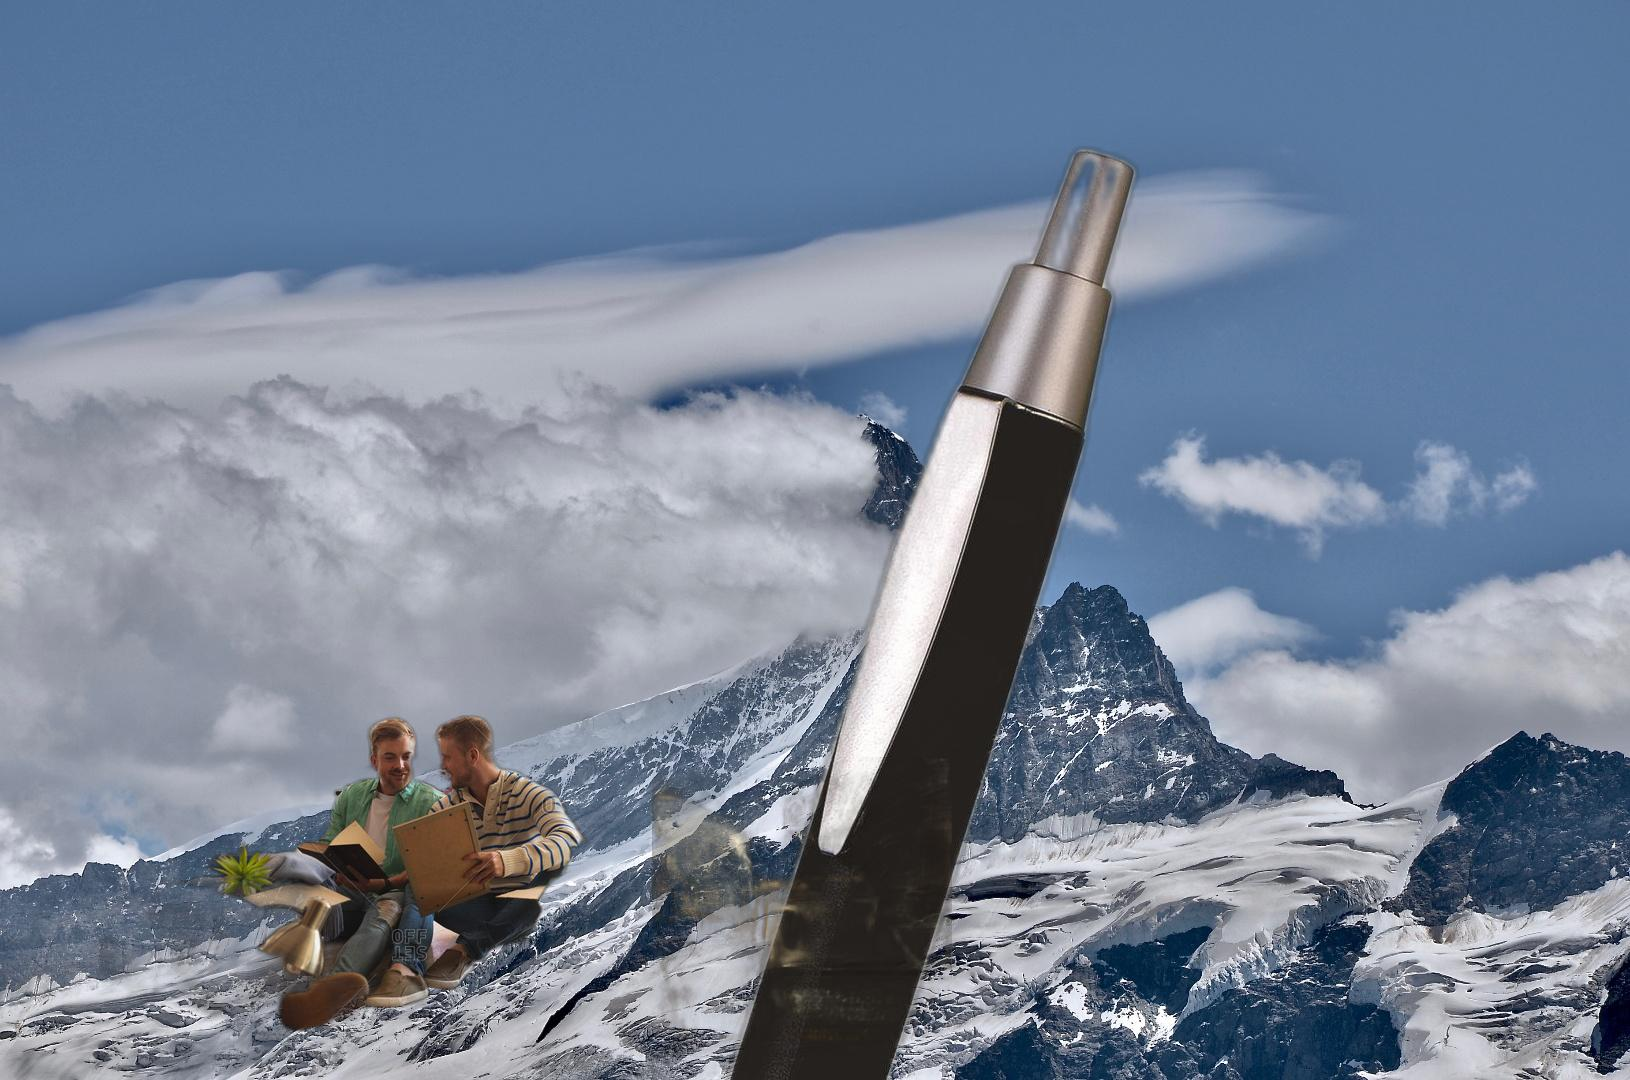paper-bag: (652, 757, 952, 1057)
penholder: (525, 133, 1151, 1080)
trashbox-cardboard: (99, 712, 595, 1067)
